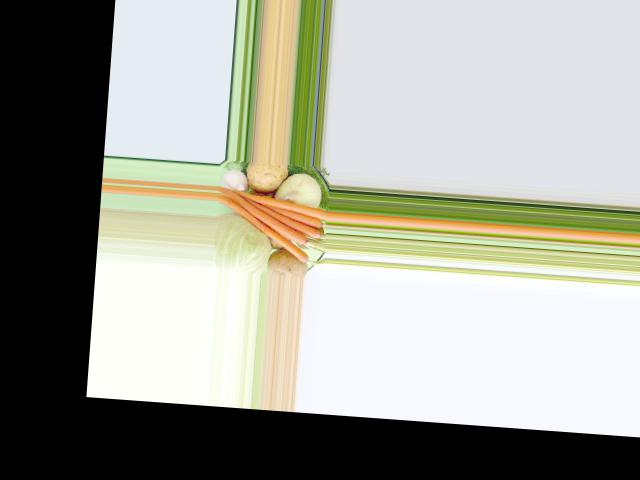carrot: (220, 186, 328, 220)
